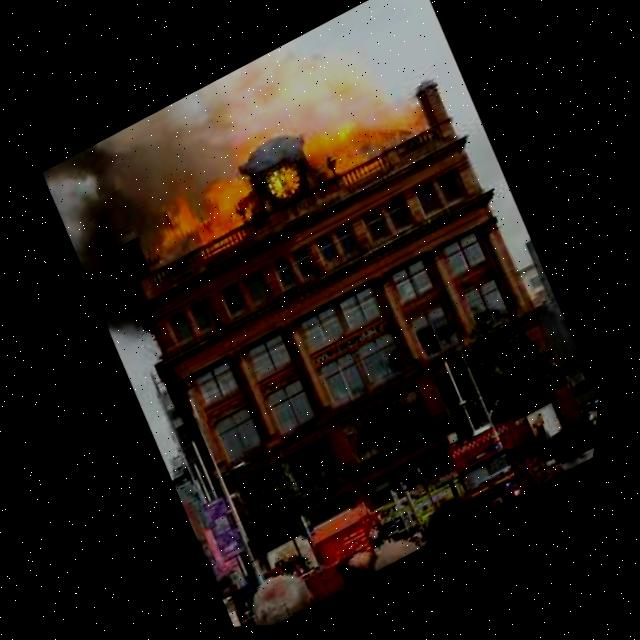Fire: (131, 66, 438, 286)
Smoke: (103, 19, 369, 204), (35, 133, 206, 353)
